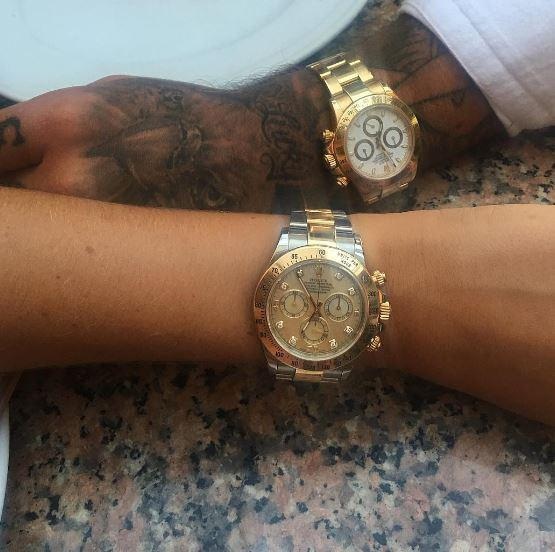clock: (267, 262, 367, 362)
